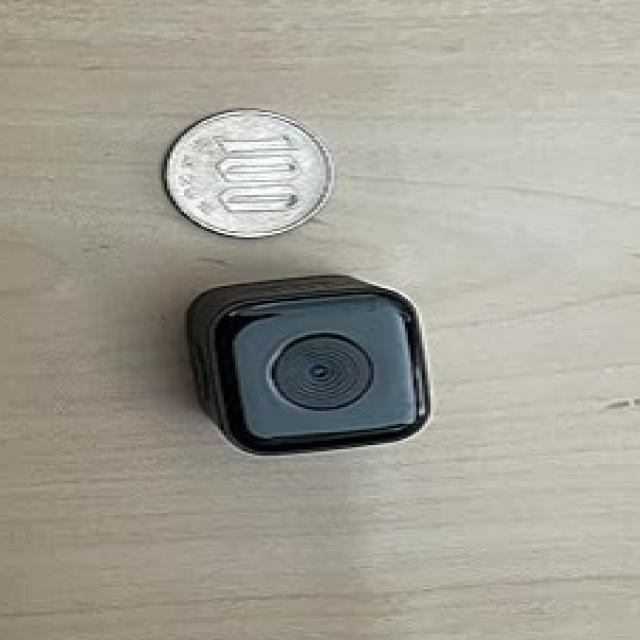hidden camera: (301, 358, 334, 381)
